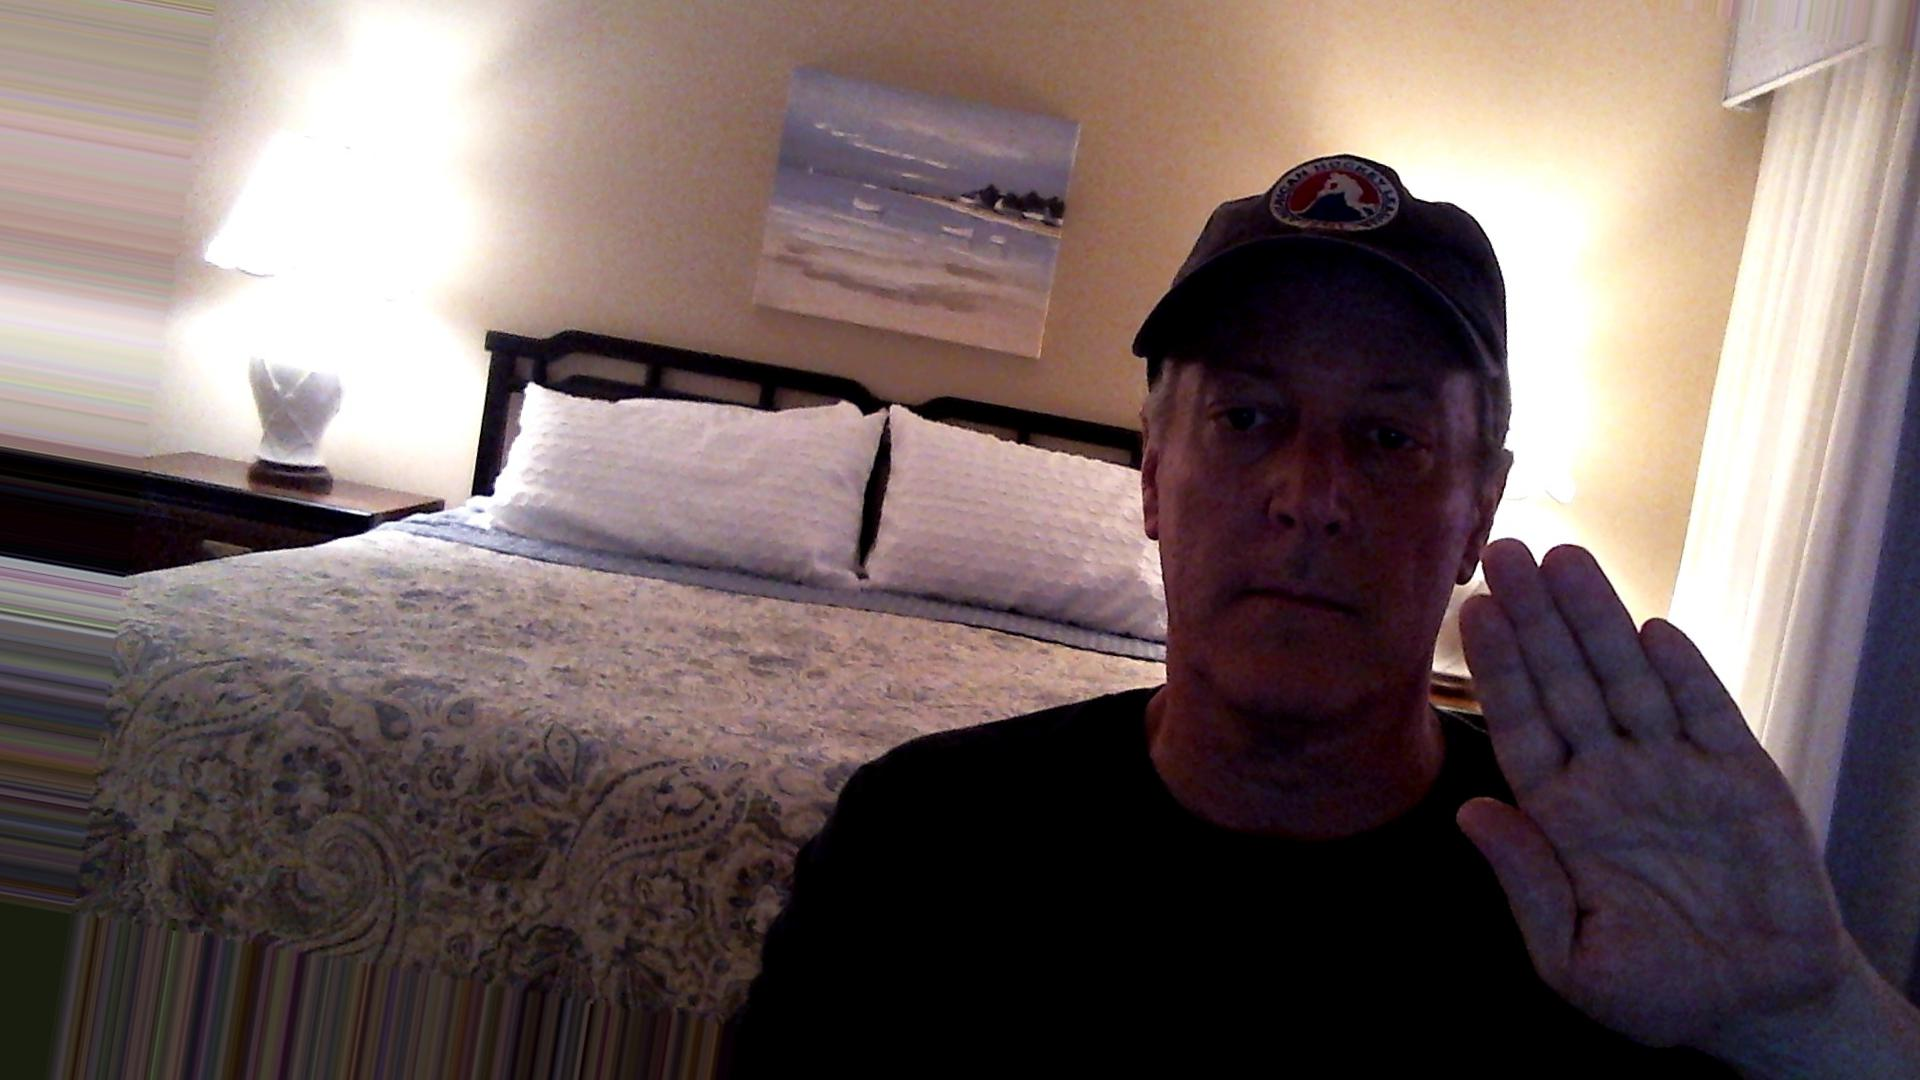Hello: (1443, 518, 1882, 1073)
